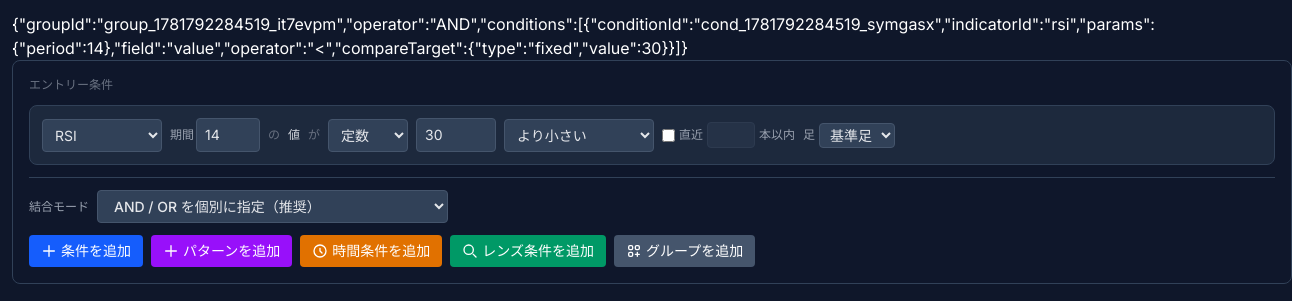
Scenario: ConditionBuilder（接合点ごとの AND/OR） › 演算子を範囲内(between)にすると上限が設定され、下限〜上限の2入力になる
The image size is (1292, 301).
Select "範囲内" in the 2nd dropdown showing "より小さい" at point(579, 135), box [504,118,654,152]
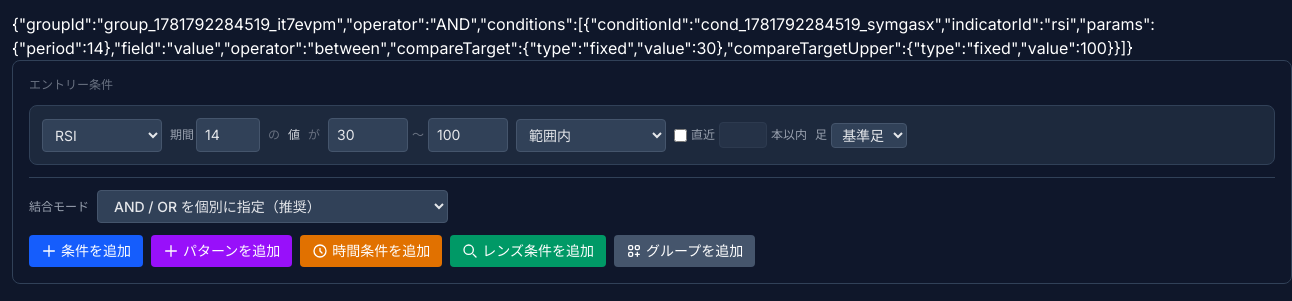
Now the number field titled "下限" is shown, box [328,118,408,152]
Now the number field titled "上限" is shown, box [428,118,508,152]
